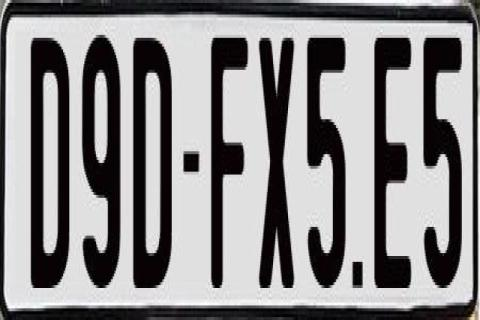0: (422, 32, 466, 291), (80, 32, 121, 302), (308, 29, 348, 297)
D: (131, 32, 174, 288), (30, 38, 68, 297)
E: (374, 32, 412, 300)
F: (210, 35, 250, 291)
X: (258, 29, 296, 279)
